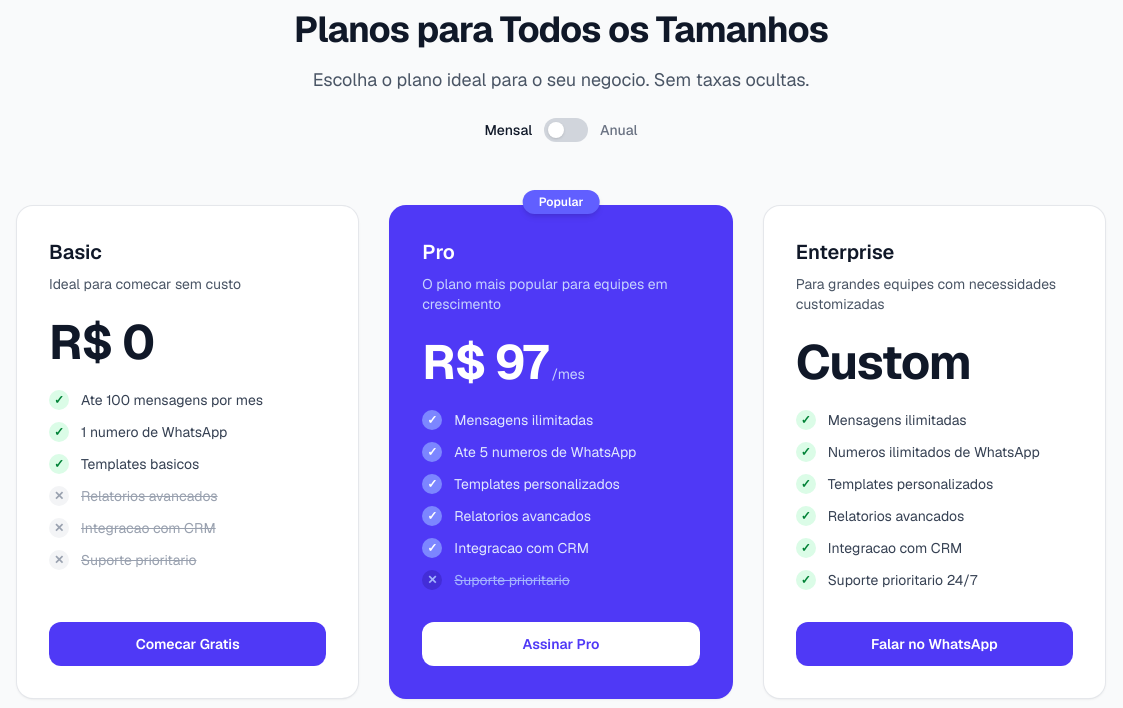
Test: PricingSection › switching back to monthly restores the original prices
The width and height of the screenshot is (1123, 708).
What coordinates should you click on to do the following:
click the switch
I would click on:
 (566, 130)
Its box is [544,118,588,142].
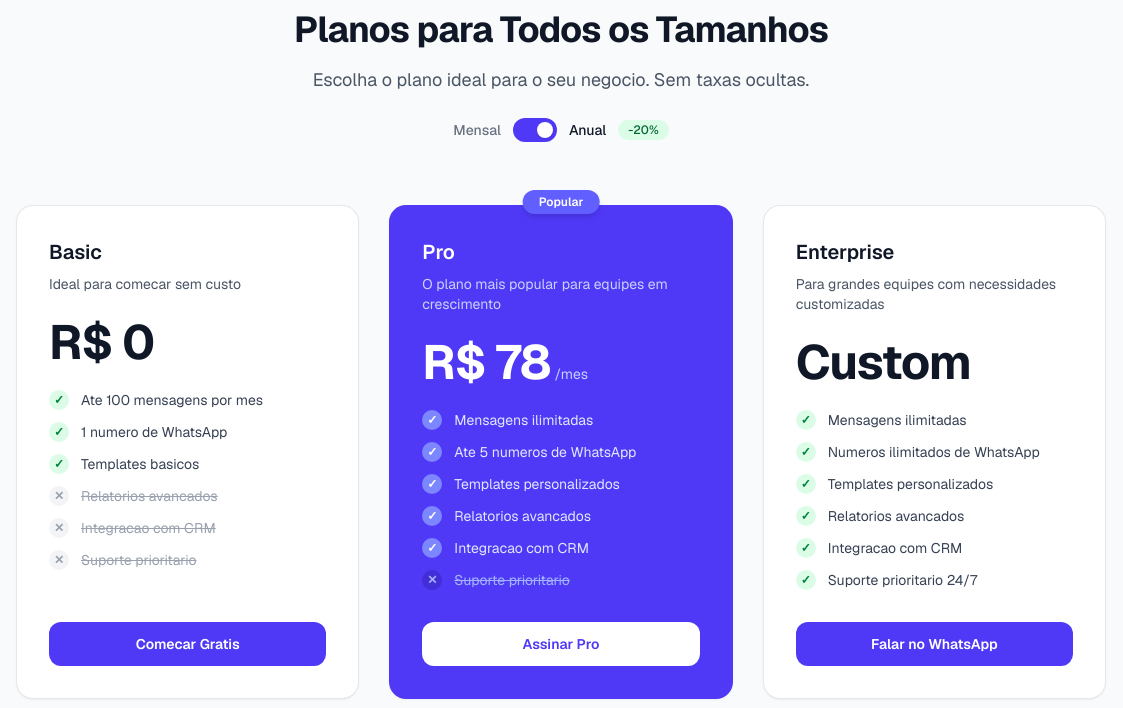
What coordinates should you click on to do the following:
click the switch
I would click on:
 (535, 130)
Its box is [513,118,557,142].
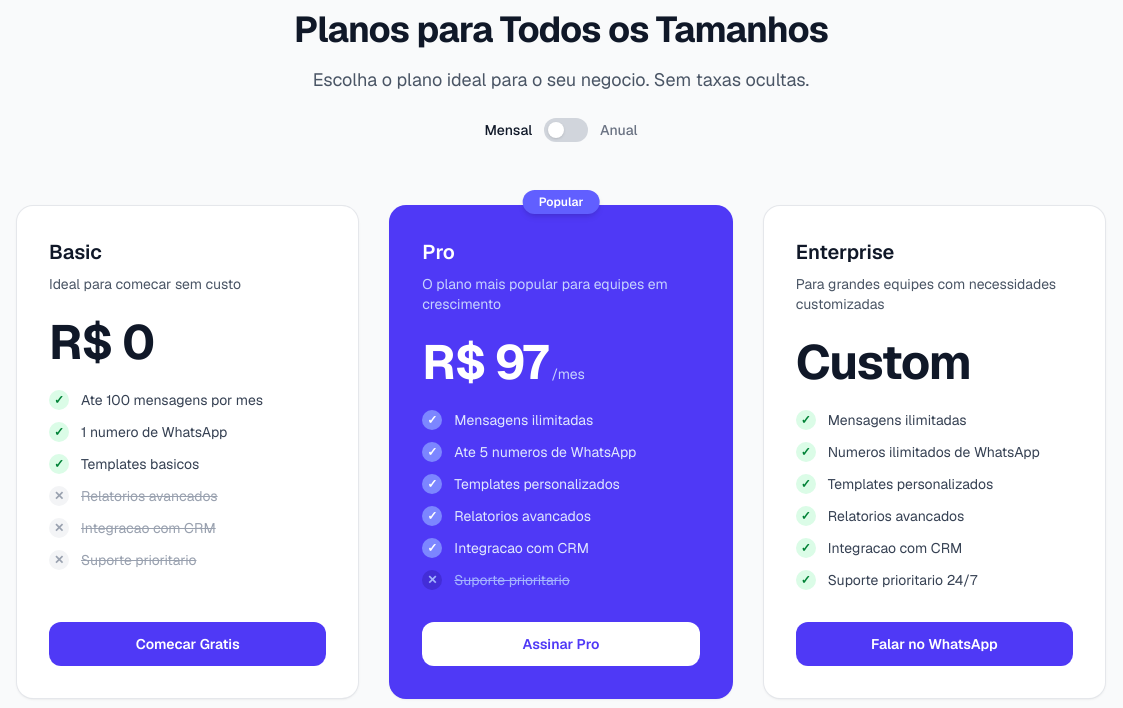
Result: the text "R$ 97" is shown at [422,331,547,393]
Result: the text "R$ 78" is gone
